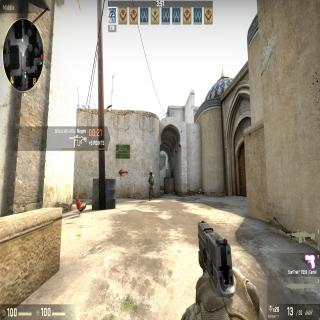CT-Body: (148, 170, 154, 200)
CT-Head: (150, 170, 152, 176)
